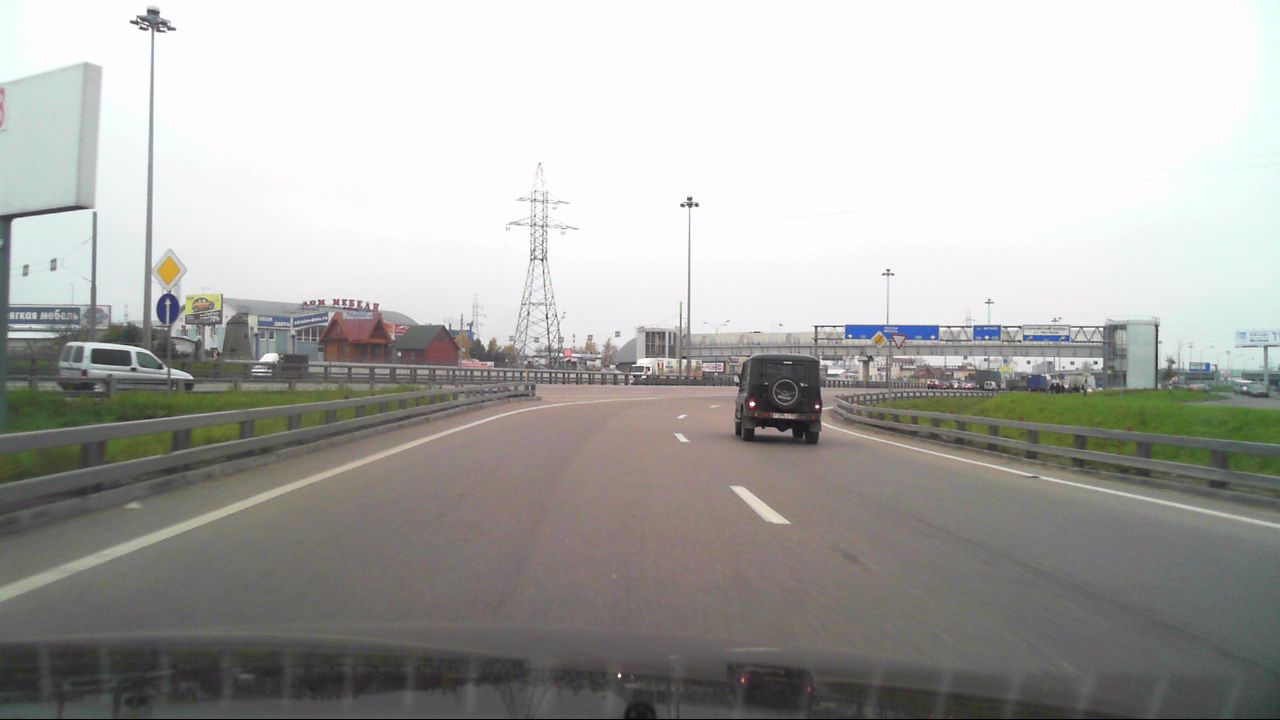main road: (869, 329, 887, 349)
